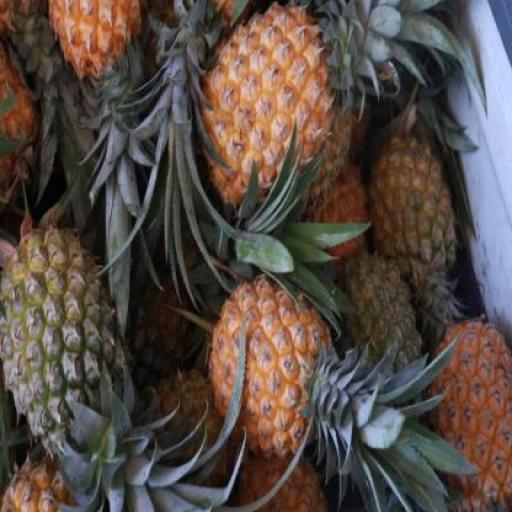------------------------------: (5, 230, 139, 459), (369, 130, 456, 303)
Pineapple - v8 v1: (198, 6, 348, 202), (210, 277, 332, 460), (435, 322, 509, 512)
